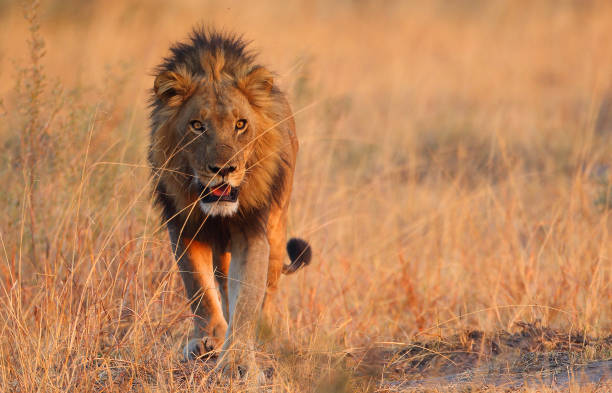lion: (123, 11, 317, 280)
